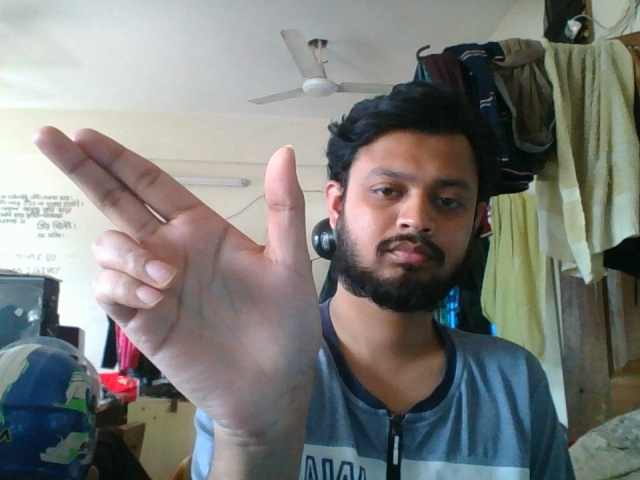jha: (28, 113, 332, 423)
